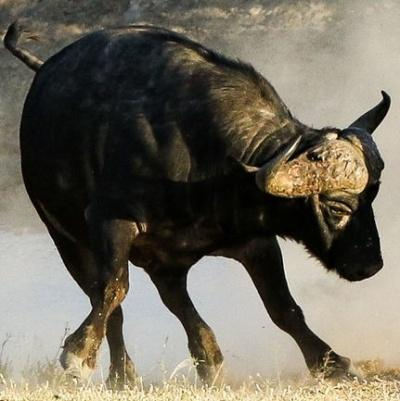buffalo: (5, 22, 389, 387)
